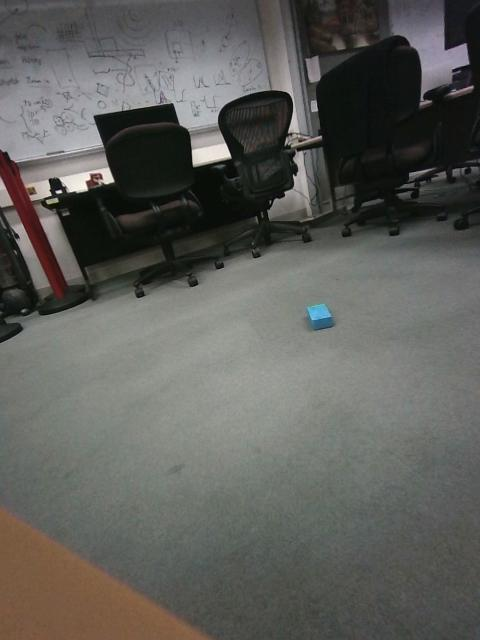block: (380, 259, 437, 297)
